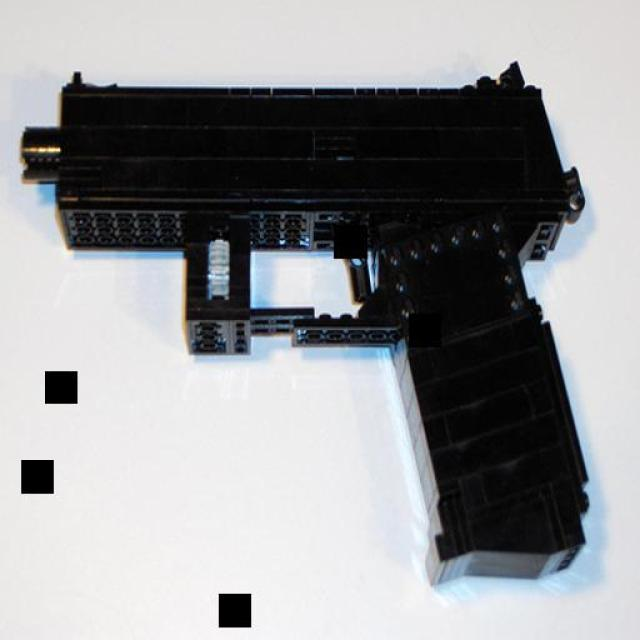gun: (19, 57, 589, 585)
